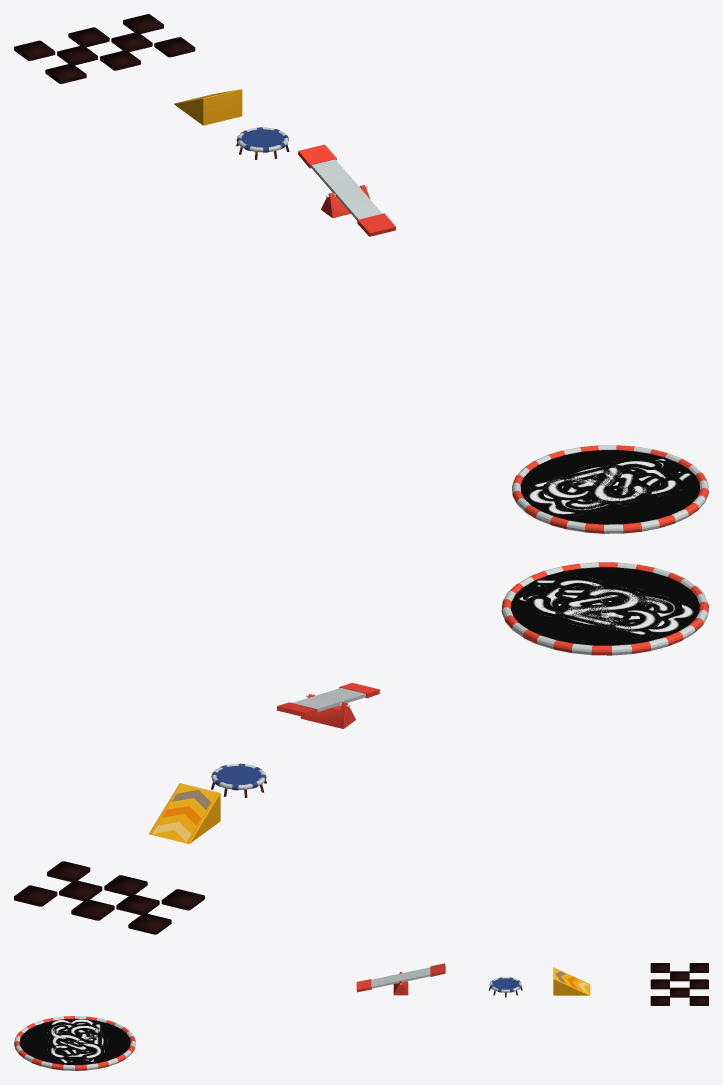
File: Finish.fbx
3 views of the same model, one above another, from view 1: azimuth 30°, elevation 25°; view 2: azimuth 150°, elevation 25°; view 3: azimuth 270°, elevation 25° (orthographic). The views are drawn at different scales.
Parts seen in each view (by area): view 1: Break Glass, Finish Line, Final ring, Board, Numbers finish 32, Numbers finish 16, Ramp, Numbers finish 2, Trampoline, Numbers finish 128; view 2: Break Glass, Finish Line, Final ring, Ramp, Numbers finish 32, Numbers finish 2, Numbers finish 16, Board, Trampoline, Numbers finish 128, Springboard, Numbers finish 4; view 3: Break Glass, Finish Line, Final ring, Board, Numbers finish 32, Ramp, Numbers finish 16, Numbers finish 2, Trampoline, Numbers finish 128, Numbers finish 4, Springboard.
Boxes of the visible parts, left/top/right/bottom form: Break Glass: left=520, top=450, right=699, bottom=524; Finish Line: left=14, top=14, right=195, bottom=83; Final ring: left=512, top=445, right=708, bottom=533; Board: left=298, top=144, right=395, bottom=236; Numbers finish 32: left=528, top=458, right=682, bottom=512; Numbers finish 16: left=542, top=465, right=664, bottom=509; Ramp: left=174, top=89, right=242, bottom=125; Numbers finish 2: left=565, top=465, right=649, bottom=503; Trampoline: left=236, top=127, right=289, bottom=159; Numbers finish 128: left=525, top=467, right=693, bottom=516; Break Glass: left=511, top=567, right=699, bottom=645; Finish Line: left=14, top=861, right=204, bottom=934; Final ring: left=501, top=562, right=708, bottom=655; Ramp: left=149, top=783, right=220, bottom=843; Numbers finish 32: left=526, top=577, right=682, bottom=637; Numbers finish 2: left=557, top=586, right=645, bottom=627; Numbers finish 16: left=557, top=585, right=673, bottom=631; Board: left=276, top=683, right=379, bottom=717; Trampoline: left=211, top=763, right=266, bottom=797; Numbers finish 128: left=532, top=575, right=695, bottom=634; Springboard: left=300, top=694, right=355, bottom=728; Numbers finish 4: left=561, top=588, right=646, bottom=620; Break Glass: left=19, top=1019, right=130, bottom=1065; Finish Line: left=650, top=963, right=708, bottom=1005; Final ring: left=14, top=1016, right=136, bottom=1070; Board: left=356, top=963, right=445, bottom=992; Numbers finish 32: left=47, top=1022, right=104, bottom=1059; Ramp: left=553, top=967, right=590, bottom=995; Numbers finish 16: left=52, top=1024, right=101, bottom=1055; Numbers finish 2: left=49, top=1033, right=101, bottom=1049; Trampoline: left=488, top=977, right=522, bottom=997; Numbers finish 128: left=48, top=1018, right=96, bottom=1063; Numbers finish 4: left=45, top=1032, right=90, bottom=1051; Springboard: left=393, top=971, right=408, bottom=995.
Bounding box in the file's own units: 825 × 587 × 4691.
3 materials, 2 textured.
